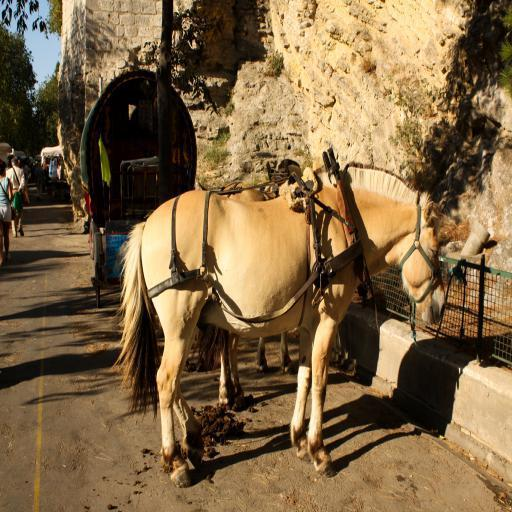horse: (112, 160, 451, 488)
